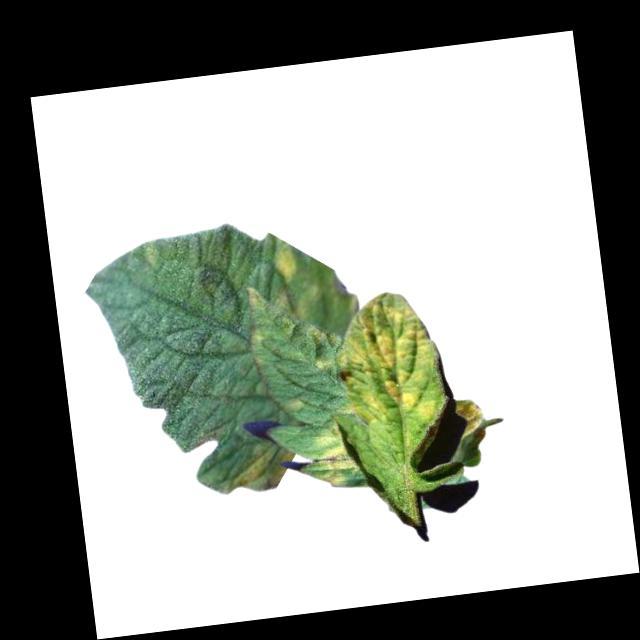Leaf_Mold: (328, 284, 451, 431), (303, 418, 361, 491), (223, 440, 296, 496), (268, 240, 297, 280), (242, 283, 264, 312), (305, 320, 329, 345), (281, 393, 304, 416)
